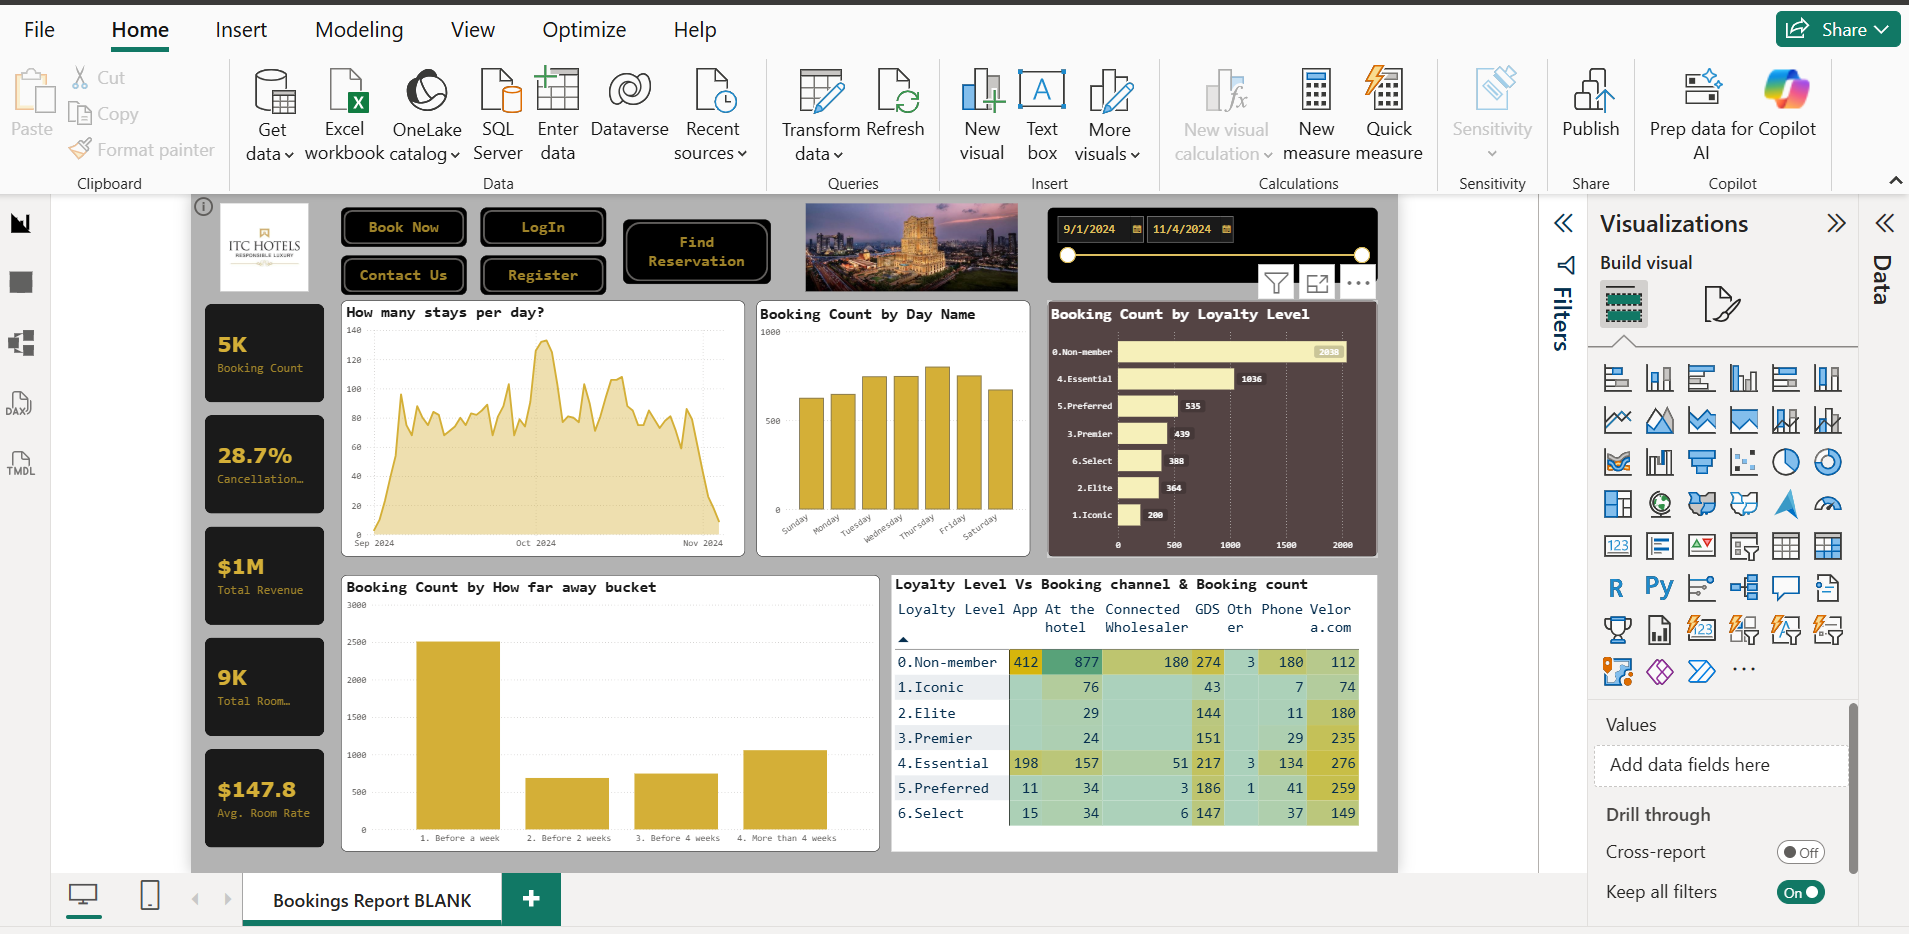

What the dashboard file says about the page in this screenshot:
{"tool":"powerbi","page":{"name":"Bookings Report BLANK","canvas":[1920,1080],"ordinal":0},"visuals":[{"type":"cardVisual","fields":{"Data":["bookings.Booking Count","bookings.Cancellation Pct","bookings.Total Revenue","bookings.Total Room Nights","bookings.Avg. Room Rate"]},"box":[17.5,170,200,875],"z":0},{"type":"lineChart","title":"How many stays per day?","fields":{"Category":["bookings.Stay Date"],"Y":["bookings.Booking Count"]},"box":[237.5,170,642.5,407.5],"z":1000},{"type":"slicer","fields":{"Values":["bookings.Stay Date"]},"box":[1362.5,22.5,525,120],"z":2000},{"type":"clusteredColumnChart","fields":{"Y":["bookings.Booking Count"],"Category":["bookings.Day Name"]},"box":[900,170,435,407.5],"z":3000},{"type":"barChart","fields":{"Category":["bookings.Loyalty Level"],"Y":["bookings.Booking Count"]},"box":[1362.5,170,525,407.5],"z":4000},{"type":"clusteredColumnChart","fields":{"Y":["bookings.Booking Count"],"Category":["bookings.How far away bucket"]},"box":[237.5,605,857.5,440],"z":5000},{"type":"pivotTable","title":"Loyalty Level Vs Booking channel & Booking count","fields":{"Rows":["bookings.Loyalty Level"],"Columns":["bookings.Booking Channel"],"Values":["bookings.Booking Count"]},"box":[1115,605,772.5,440],"z":6000},{"type":"image","box":[17.5,10,200,150],"z":6001},{"type":"actionButton","box":[0,0,100,40],"z":6002},{"type":"actionButton","box":[237.5,22.5,200,62.5],"z":6004},{"type":"actionButton","box":[237.5,97.5,200,62.5],"z":6005},{"type":"actionButton","box":[460,97.5,200,62.5],"z":6006},{"type":"actionButton","box":[460,22.5,200,62.5],"z":6007},{"type":"image","box":[960,10,375,150],"z":6008},{"type":"actionButton","box":[687.5,40,235,102.5],"z":6009}]}

Visuals, with their boxes on the page's 1920x1080 design canvas (x1, y1, x2, y2). These are canvas units, not pixel positions in the 1909x934 screenshot, which may show the page scaled, cropped or inside an application window:
cardVisual - bookings.Booking Count x bookings.Cancellation Pct: left=18, top=170, right=218, bottom=1045
"How many stays per day?" lineChart: left=238, top=170, right=880, bottom=578
slicer - bookings.Stay Date: left=1362, top=22, right=1888, bottom=142
clusteredColumnChart - bookings.Booking Count x bookings.Day Name: left=900, top=170, right=1335, bottom=578
barChart - bookings.Loyalty Level x bookings.Booking Count: left=1362, top=170, right=1888, bottom=578
clusteredColumnChart - bookings.Booking Count x bookings.How far away bucket: left=238, top=605, right=1095, bottom=1045
"Loyalty Level Vs Booking channel & Booking count" pivotTable: left=1115, top=605, right=1888, bottom=1045
image: left=18, top=10, right=218, bottom=160
actionButton: left=0, top=0, right=100, bottom=40
actionButton: left=238, top=22, right=438, bottom=85
actionButton: left=238, top=98, right=438, bottom=160
actionButton: left=460, top=98, right=660, bottom=160
actionButton: left=460, top=22, right=660, bottom=85
image: left=960, top=10, right=1335, bottom=160
actionButton: left=688, top=40, right=922, bottom=142
